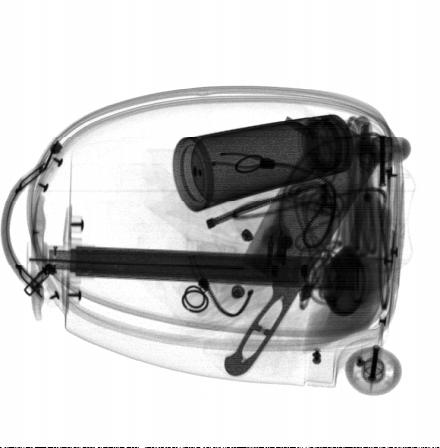Knife: (224, 117, 387, 378)
